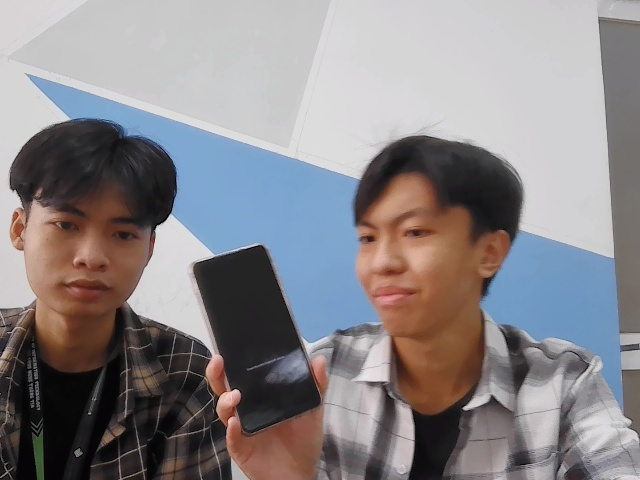human: (353, 134, 525, 339), (10, 120, 174, 329)
phone: (191, 241, 327, 436)
